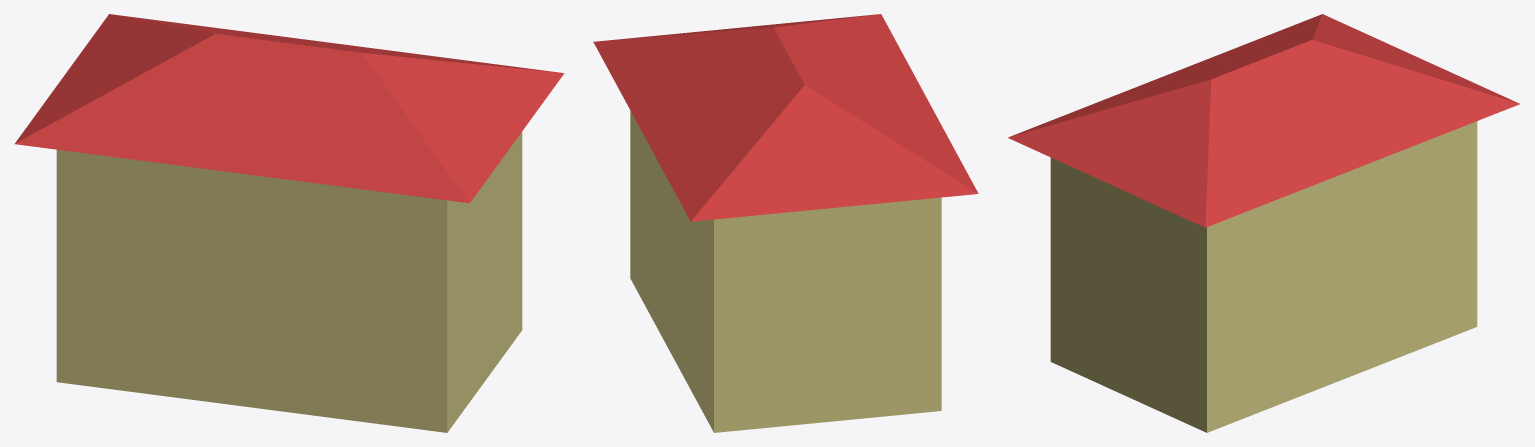
3 views of the same model, side by side, from view 1: azimuth 30°, elevation 25°; view 2: azimuth 150°, elevation 25°; view 3: azimuth 270°, elevation 25° (orthographic). The views are drawn at different scales.
Visible parts, largest first — view 1: group_5, group_3, group_4; view 2: group_5, group_3, group_4; view 3: group_5, group_3, group_4.
Part boxes in pixels (<box>): group_5: <box>56,131,522,432</box>; group_3: <box>57,14,561,202</box>; group_4: <box>15,14,563,203</box>; group_5: <box>630,111,941,432</box>; group_3: <box>593,14,975,221</box>; group_4: <box>597,14,978,221</box>; group_5: <box>1050,121,1477,432</box>; group_3: <box>1008,19,1519,227</box>; group_4: <box>1008,14,1519,227</box>.
Bounding box in the file's own units: 16.57 × 16.81 × 10.26.
